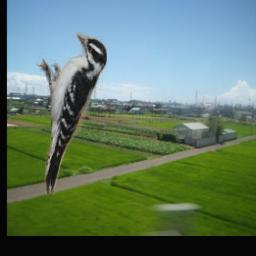Woodpecker: (36, 33, 107, 196)
